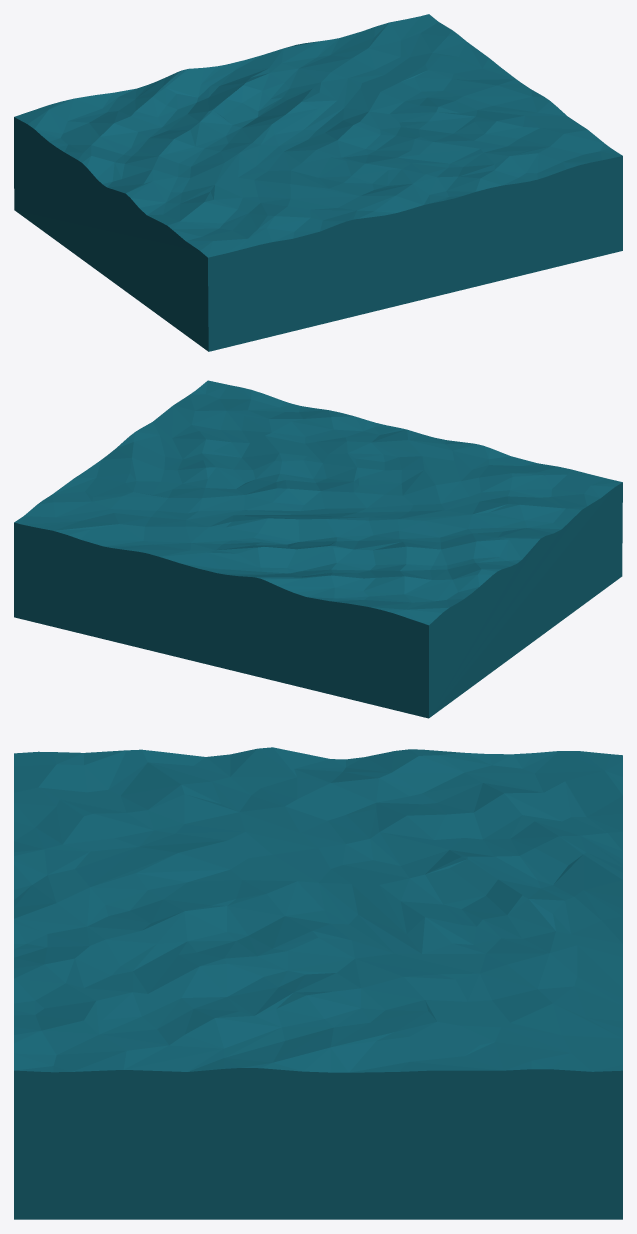
File: Lake_texture_extruded_plane.fbx
3 renders of one model, top to bottom at view 1: azimuth 30°, elevation 25°; view 2: azimuth 150°, elevation 25°; view 3: azimuth 270°, elevation 25°, orthographic. The views are drawn at different scales.
Visible parts, largest first — view 1: pPlane1; view 2: pPlane1; view 3: pPlane1.
Boxes of the visible parts, box(x1,y1,x2,y2) form: pPlane1: box(14, 14, 622, 351); pPlane1: box(14, 380, 622, 718); pPlane1: box(14, 747, 622, 1219).
Bounding box in the file's own units: 346 × 79.91 × 280.
